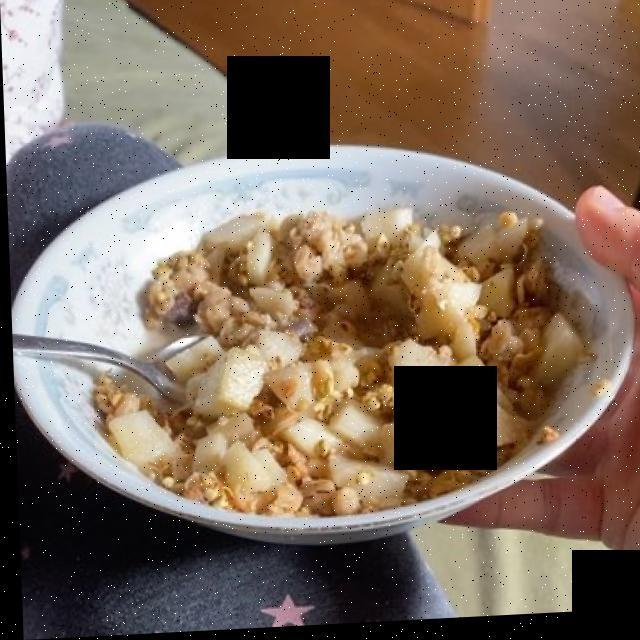muesli: (106, 221, 536, 502)
pear: (114, 218, 563, 503)
